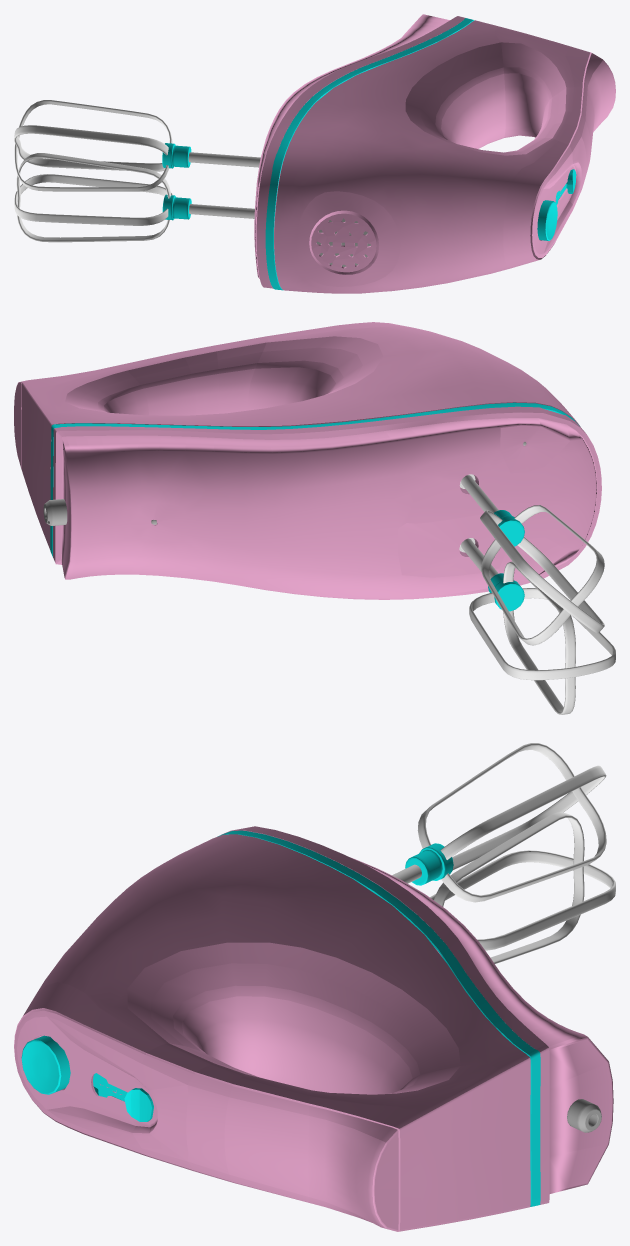
Rendered from hand_mixer.fbx.
3 views of the same model, one above another, from view 1: azimuth 30°, elevation 25°; view 2: azimuth 150°, elevation 25°; view 3: azimuth 270°, elevation 25° (orthographic). The views are drawn at different scales.
Parts seen in each view (by area): view 1: _Hand_Mixer_V3_l2:_Hand_Mixer_Body, _Hand_Mixer_V3_l2:_Hand_Mixer_metall, _Hand_Mixer_V3_l2:_Hand_Mixer_Blue, _Hand_Mixer_V3_l2:_Hand_Mixer1; view 2: _Hand_Mixer_V3_l2:_Hand_Mixer_Body, _Hand_Mixer_V3_l2:_Hand_Mixer_metall, _Hand_Mixer_V3_l2:_Hand_Mixer_Blue, _Hand_Mixer_V3_l2:_Hand_Mixer1, _Hand_Mixer_V3_l2:_Hand_Mixer_black; view 3: _Hand_Mixer_V3_l2:_Hand_Mixer_Body, _Hand_Mixer_V3_l2:_Hand_Mixer_metall, _Hand_Mixer_V3_l2:_Hand_Mixer_Blue, _Hand_Mixer_V3_l2:_Hand_Mixer1, _Hand_Mixer_V3_l2:_Hand_Mixer_black.
Boxes of the visible parts, bbox=[...] form: _Hand_Mixer_V3_l2:_Hand_Mixer_Body: bbox=[254, 14, 615, 293]; _Hand_Mixer_V3_l2:_Hand_Mixer_metall: bbox=[14, 100, 260, 242]; _Hand_Mixer_V3_l2:_Hand_Mixer_Blue: bbox=[265, 18, 576, 290]; _Hand_Mixer_V3_l2:_Hand_Mixer1: bbox=[162, 143, 191, 220]; _Hand_Mixer_V3_l2:_Hand_Mixer_Body: bbox=[14, 322, 601, 599]; _Hand_Mixer_V3_l2:_Hand_Mixer_metall: bbox=[459, 474, 615, 714]; _Hand_Mixer_V3_l2:_Hand_Mixer_Blue: bbox=[50, 402, 579, 556]; _Hand_Mixer_V3_l2:_Hand_Mixer1: bbox=[488, 510, 524, 611]; _Hand_Mixer_V3_l2:_Hand_Mixer_black: bbox=[43, 499, 67, 525]; _Hand_Mixer_V3_l2:_Hand_Mixer_Body: bbox=[14, 826, 613, 1231]; _Hand_Mixer_V3_l2:_Hand_Mixer_metall: bbox=[392, 743, 615, 963]; _Hand_Mixer_V3_l2:_Hand_Mixer_Blue: bbox=[21, 830, 540, 1206]; _Hand_Mixer_V3_l2:_Hand_Mixer1: bbox=[405, 843, 453, 885]; _Hand_Mixer_V3_l2:_Hand_Mixer_black: bbox=[567, 1099, 601, 1132].
Bounding box in the file's own units: 21.2 × 5.46 × 14.24.
